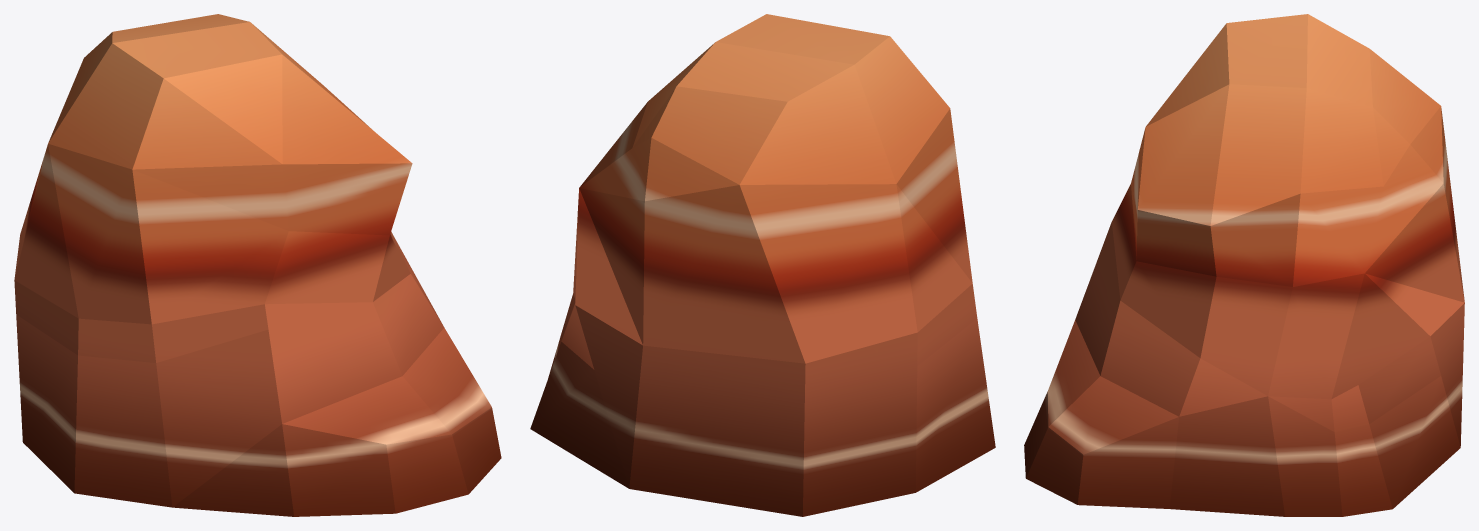
Rendered from RockCanyon3.fbx.
The picture shows the model from 3 angles, left to right: view 1: azimuth 30°, elevation 25°; view 2: azimuth 150°, elevation 25°; view 3: azimuth 270°, elevation 25°; orthographic projection. The views are drawn at different scales.
Visible parts, largest first — view 1: RockCanyon3; view 2: RockCanyon3; view 3: RockCanyon3.
Part boxes in pixels (<box>): RockCanyon3: <box>14,14,501,516</box>; RockCanyon3: <box>530,14,995,516</box>; RockCanyon3: <box>1024,14,1464,516</box>.
Size of the model in its own units: 51.32 by 50.84 by 54.87.
